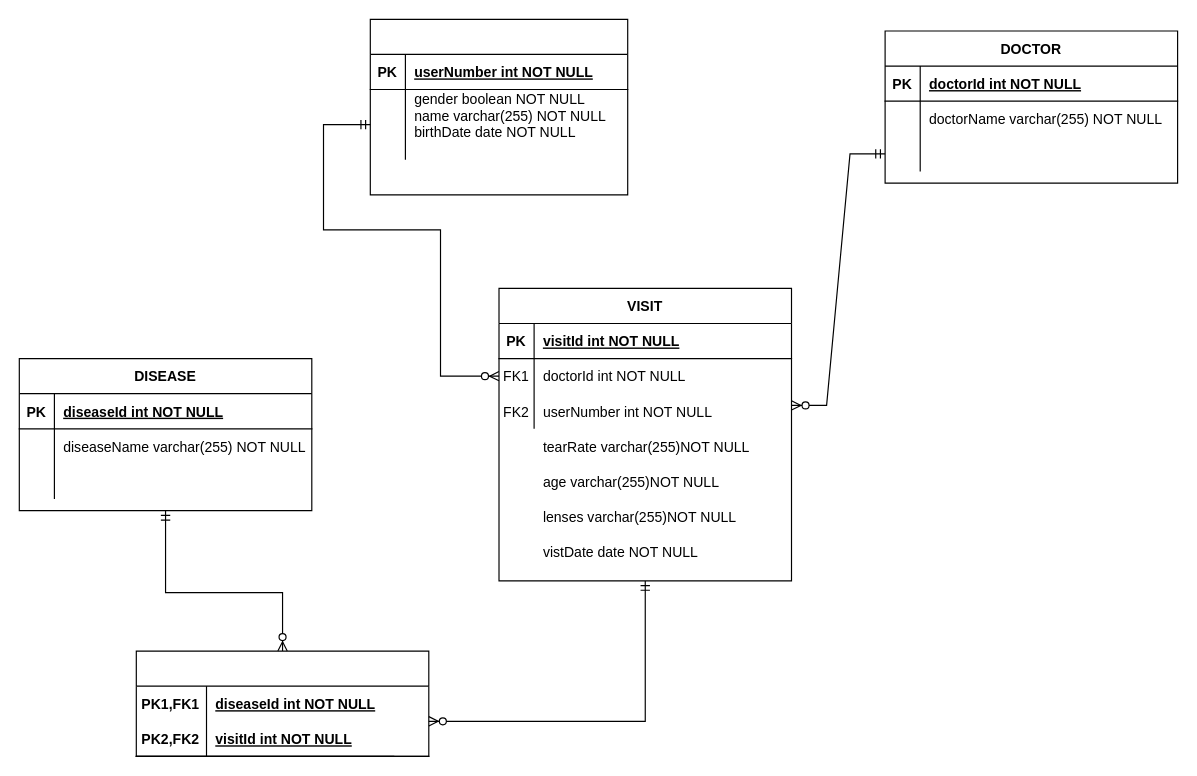
The diagram is 1197 pixels wide and 776 high, and some of its shapes have lost their labels. Each missing label, with the box of its shape:
PATIENT: (369, 18, 628, 195)
PATIENT_DISEASE: (135, 650, 429, 756)
